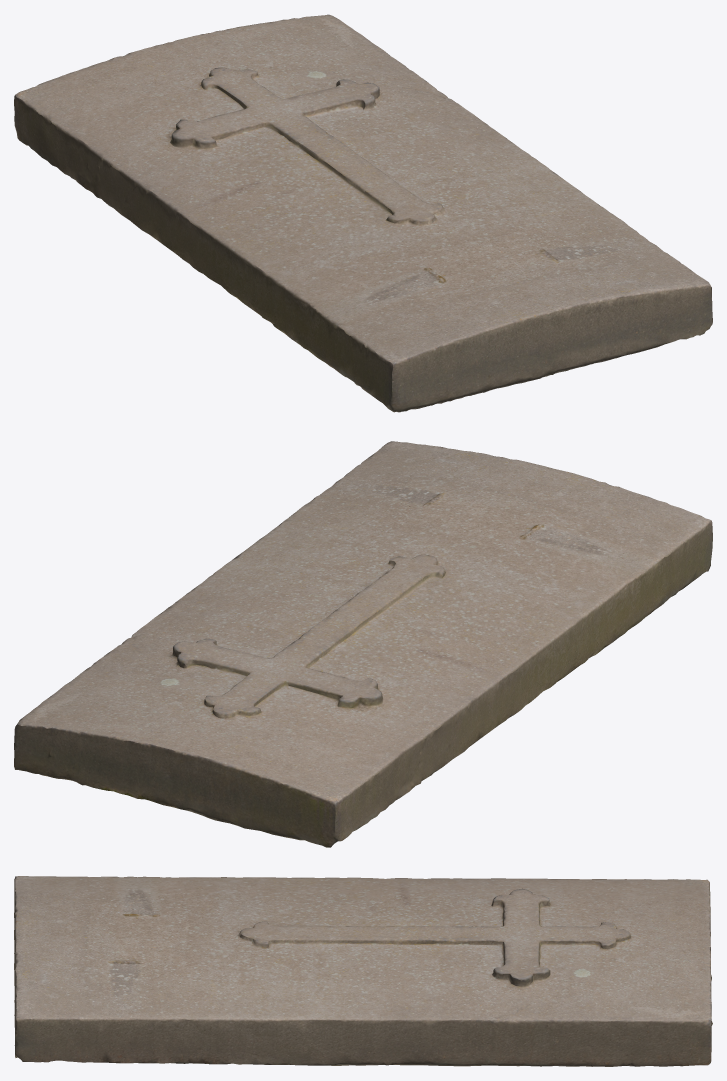
File: coffinstone2.glb
3 renders of one model, top to bottom at view 1: azimuth 30°, elevation 25°; view 2: azimuth 150°, elevation 25°; view 3: azimuth 270°, elevation 25°, orthographic. The views are drawn at different scales.
Visible parts, largest first — view 1: geo1_PBR_0; view 2: geo1_PBR_0; view 3: geo1_PBR_0.
Boxes of the visible parts, x1=… form: geo1_PBR_0: x1=14, y1=14, x2=712, y2=412; geo1_PBR_0: x1=14, y1=441, x2=712, y2=847; geo1_PBR_0: x1=14, y1=876, x2=712, y2=1066.
Size of the model in its own units: 1.09 by 0.2272 by 2.21.
1 material, 1 textured.
